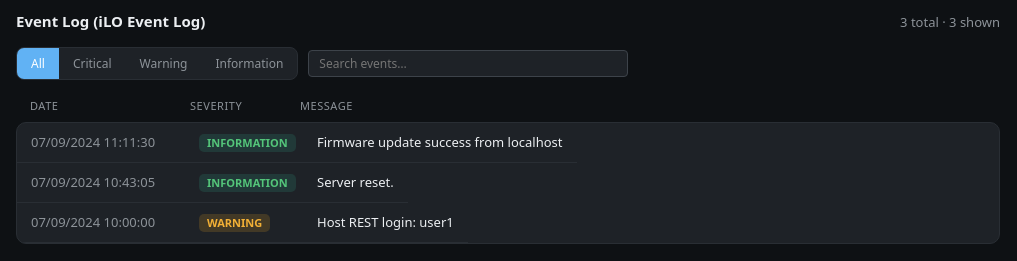
Test: EventsTab (worker-backed) › filters events by search text
The width and height of the screenshot is (1017, 261).
Check: the text "Firmware update success from localhost" is shown, box [317, 133, 562, 152]
Type "Server reset" into the field with placeholder "Search events…" at (468, 63), box [308, 50, 628, 77]
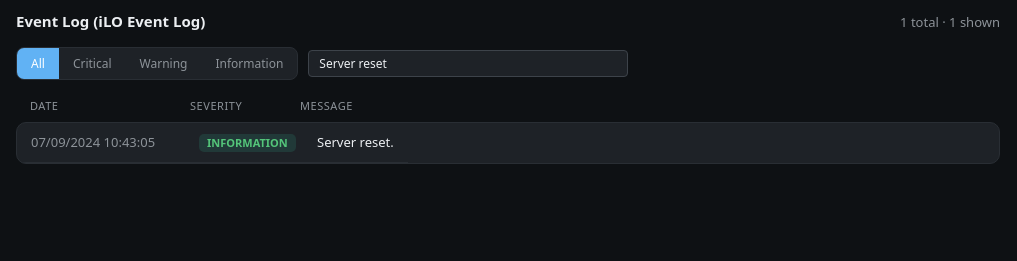
Check: the text "Firmware update success from localhost" is gone
Check: the text "Server reset." is shown, box [317, 133, 394, 152]
